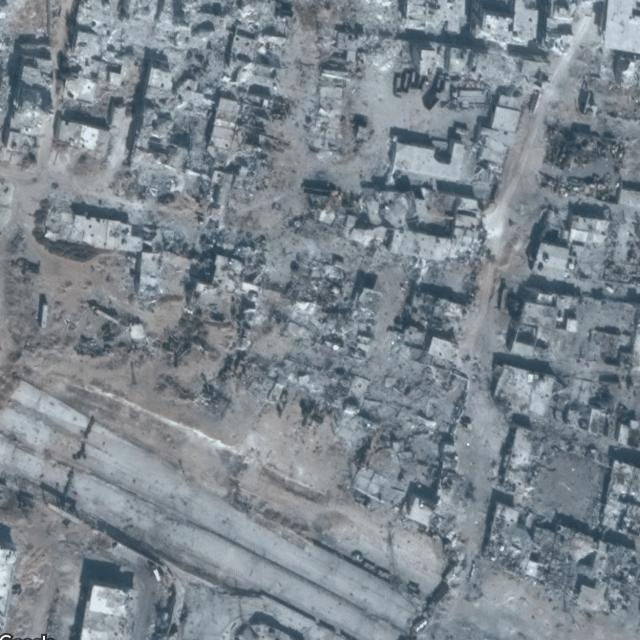damaged_building: (0, 2, 640, 620)
